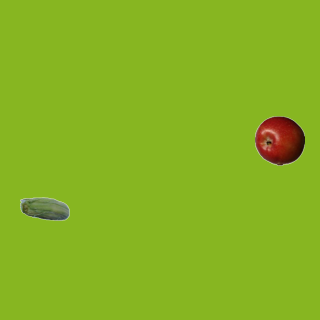Apple Braeburn: (254, 115, 304, 165)
Corn Husk: (19, 185, 69, 235)
